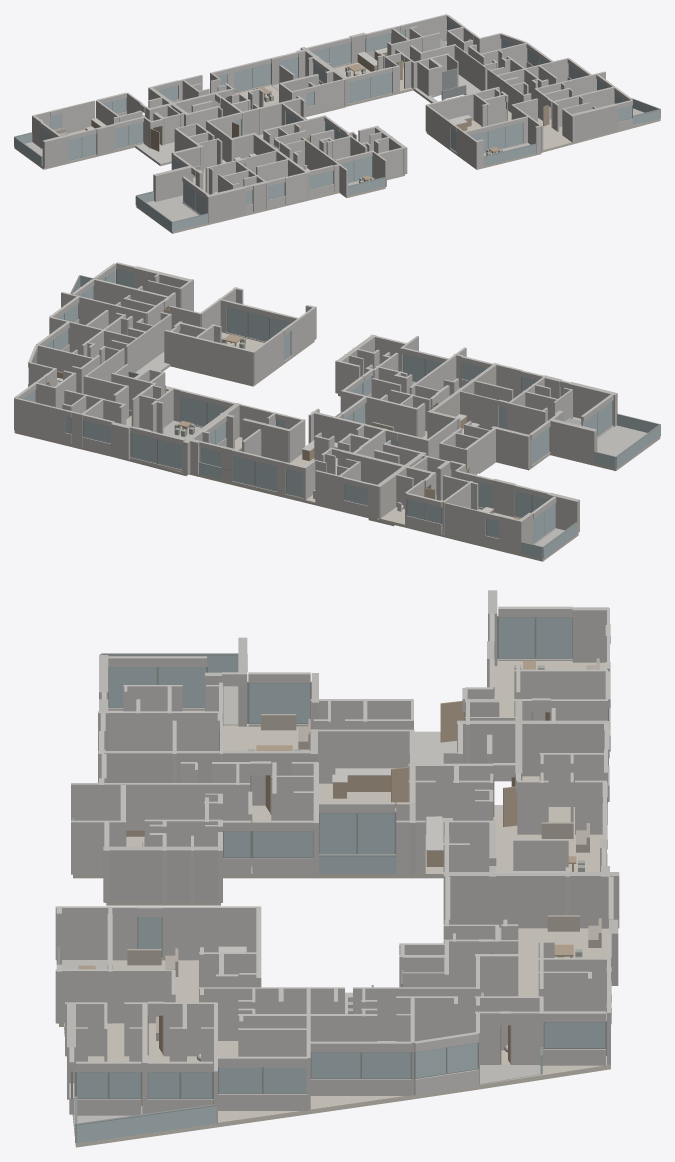
The model's file is planta-pa.glb.
3 renders of one model, top to bottom at view 1: azimuth 30°, elevation 25°; view 2: azimuth 150°, elevation 25°; view 3: azimuth 270°, elevation 25°, orthographic. The views are drawn at different scales.
Parts seen in each view (by area): view 1: 10_Departamento__Muro trazado_019, 10_Departamento__Losa_001, 06_Departamento__Muro trazado_013, 08_Departamento__Muro trazado_021, 06_Departamento__Muro trazado_006, 10_Departamento__Muro trazado_005, 09_Departamento__Vidrio_071, 07_Departamento__Muro trazado_004, 10_Departamento__Vidrio_048, 09_Departamento__Muro trazado_035, 05_Departamento__Muro trazado_026, 08_Departamento__Muro trazado_020 (+56 smaller); view 2: 10_Departamento__Muro trazado_005, 05_Departamento__Muro trazado_005, 09_Departamento__Muro trazado_006, 06_Departamento__Muro trazado_006, 07_Departamento__Muro trazado_004, 10_Departamento__Muro trazado_023, 08_Departamento__Muro trazado_013, 10_Departamento__Vidrio_048, 08_Departamento__Muro trazado_014, 09_Departamento__Vidrio_042, 10_Departamento__Muro trazado_010, 06_Departamento__Muro trazado_004 (+61 smaller); view 3: 09_Departamento__Muro trazado_023, 05_Departamento__Muro trazado_031, 05_Departamento__Muro trazado_026, 09_Departamento__Losa_001, 08_Departamento__Muro trazado_022, 06_Departamento__Muro trazado_017, 10_Departamento__Losa_001, 10_Departamento__Muro trazado_025, 10_Departamento__Muro trazado_033, 06_Departamento__Muro trazado_020, 05_Departamento__Muro trazado_020, 10_Departamento__Muro trazado_036 (+63 smaller).
Boxes of the visible parts, x1,y1,x2,y2 form: 10_Departamento__Muro trazado_019: (570, 103, 618, 141); 10_Departamento__Losa_001: (426, 118, 660, 169); 06_Departamento__Muro trazado_013: (206, 186, 246, 223); 08_Departamento__Muro trazado_021: (242, 97, 302, 135); 06_Departamento__Muro trazado_006: (153, 165, 193, 201); 10_Departamento__Muro trazado_005: (426, 87, 499, 120); 09_Departamento__Vidrio_071: (349, 72, 391, 102); 07_Departamento__Muro trazado_004: (61, 100, 95, 133); 10_Departamento__Vidrio_048: (471, 123, 522, 152); 09_Departamento__Muro trazado_035: (454, 44, 486, 90); 05_Departamento__Muro trazado_026: (301, 137, 347, 196); 08_Departamento__Muro trazado_020: (314, 78, 348, 112); 10_Departamento__Muro trazado_005: (164, 330, 254, 384); 05_Departamento__Muro trazado_005: (340, 390, 416, 436); 09_Departamento__Muro trazado_006: (14, 397, 65, 442); 06_Departamento__Muro trazado_006: (549, 418, 597, 463); 07_Departamento__Muro trazado_004: (444, 502, 486, 544); 10_Departamento__Muro trazado_023: (125, 313, 171, 372); 08_Departamento__Muro trazado_013: (340, 450, 434, 488); 10_Departamento__Vidrio_048: (227, 307, 290, 341); 08_Departamento__Muro trazado_014: (242, 418, 290, 462); 09_Departamento__Vidrio_042: (131, 433, 182, 469); 10_Departamento__Muro trazado_010: (61, 292, 146, 328); 06_Departamento__Muro trazado_004: (491, 426, 530, 468); 09_Departamento__Muro trazado_023: (443, 872, 619, 928); 05_Departamento__Muro trazado_031: (103, 846, 221, 902); 05_Departamento__Muro trazado_026: (71, 783, 250, 836); 09_Departamento__Losa_001: (308, 928, 610, 1114); 08_Departamento__Muro trazado_022: (457, 720, 607, 776); 06_Departamento__Muro trazado_017: (98, 751, 310, 805); 10_Departamento__Losa_001: (59, 960, 308, 1147); 10_Departamento__Muro trazado_025: (162, 906, 260, 960); 10_Departamento__Muro trazado_033: (55, 969, 174, 1023); 06_Departamento__Muro trazado_020: (98, 711, 221, 750); 05_Departamento__Muro trazado_020: (309, 729, 414, 783); 10_Departamento__Muro trazado_036: (55, 906, 137, 960).
Size of the model in its own units: 56.61 by 5.5 by 26.88.
